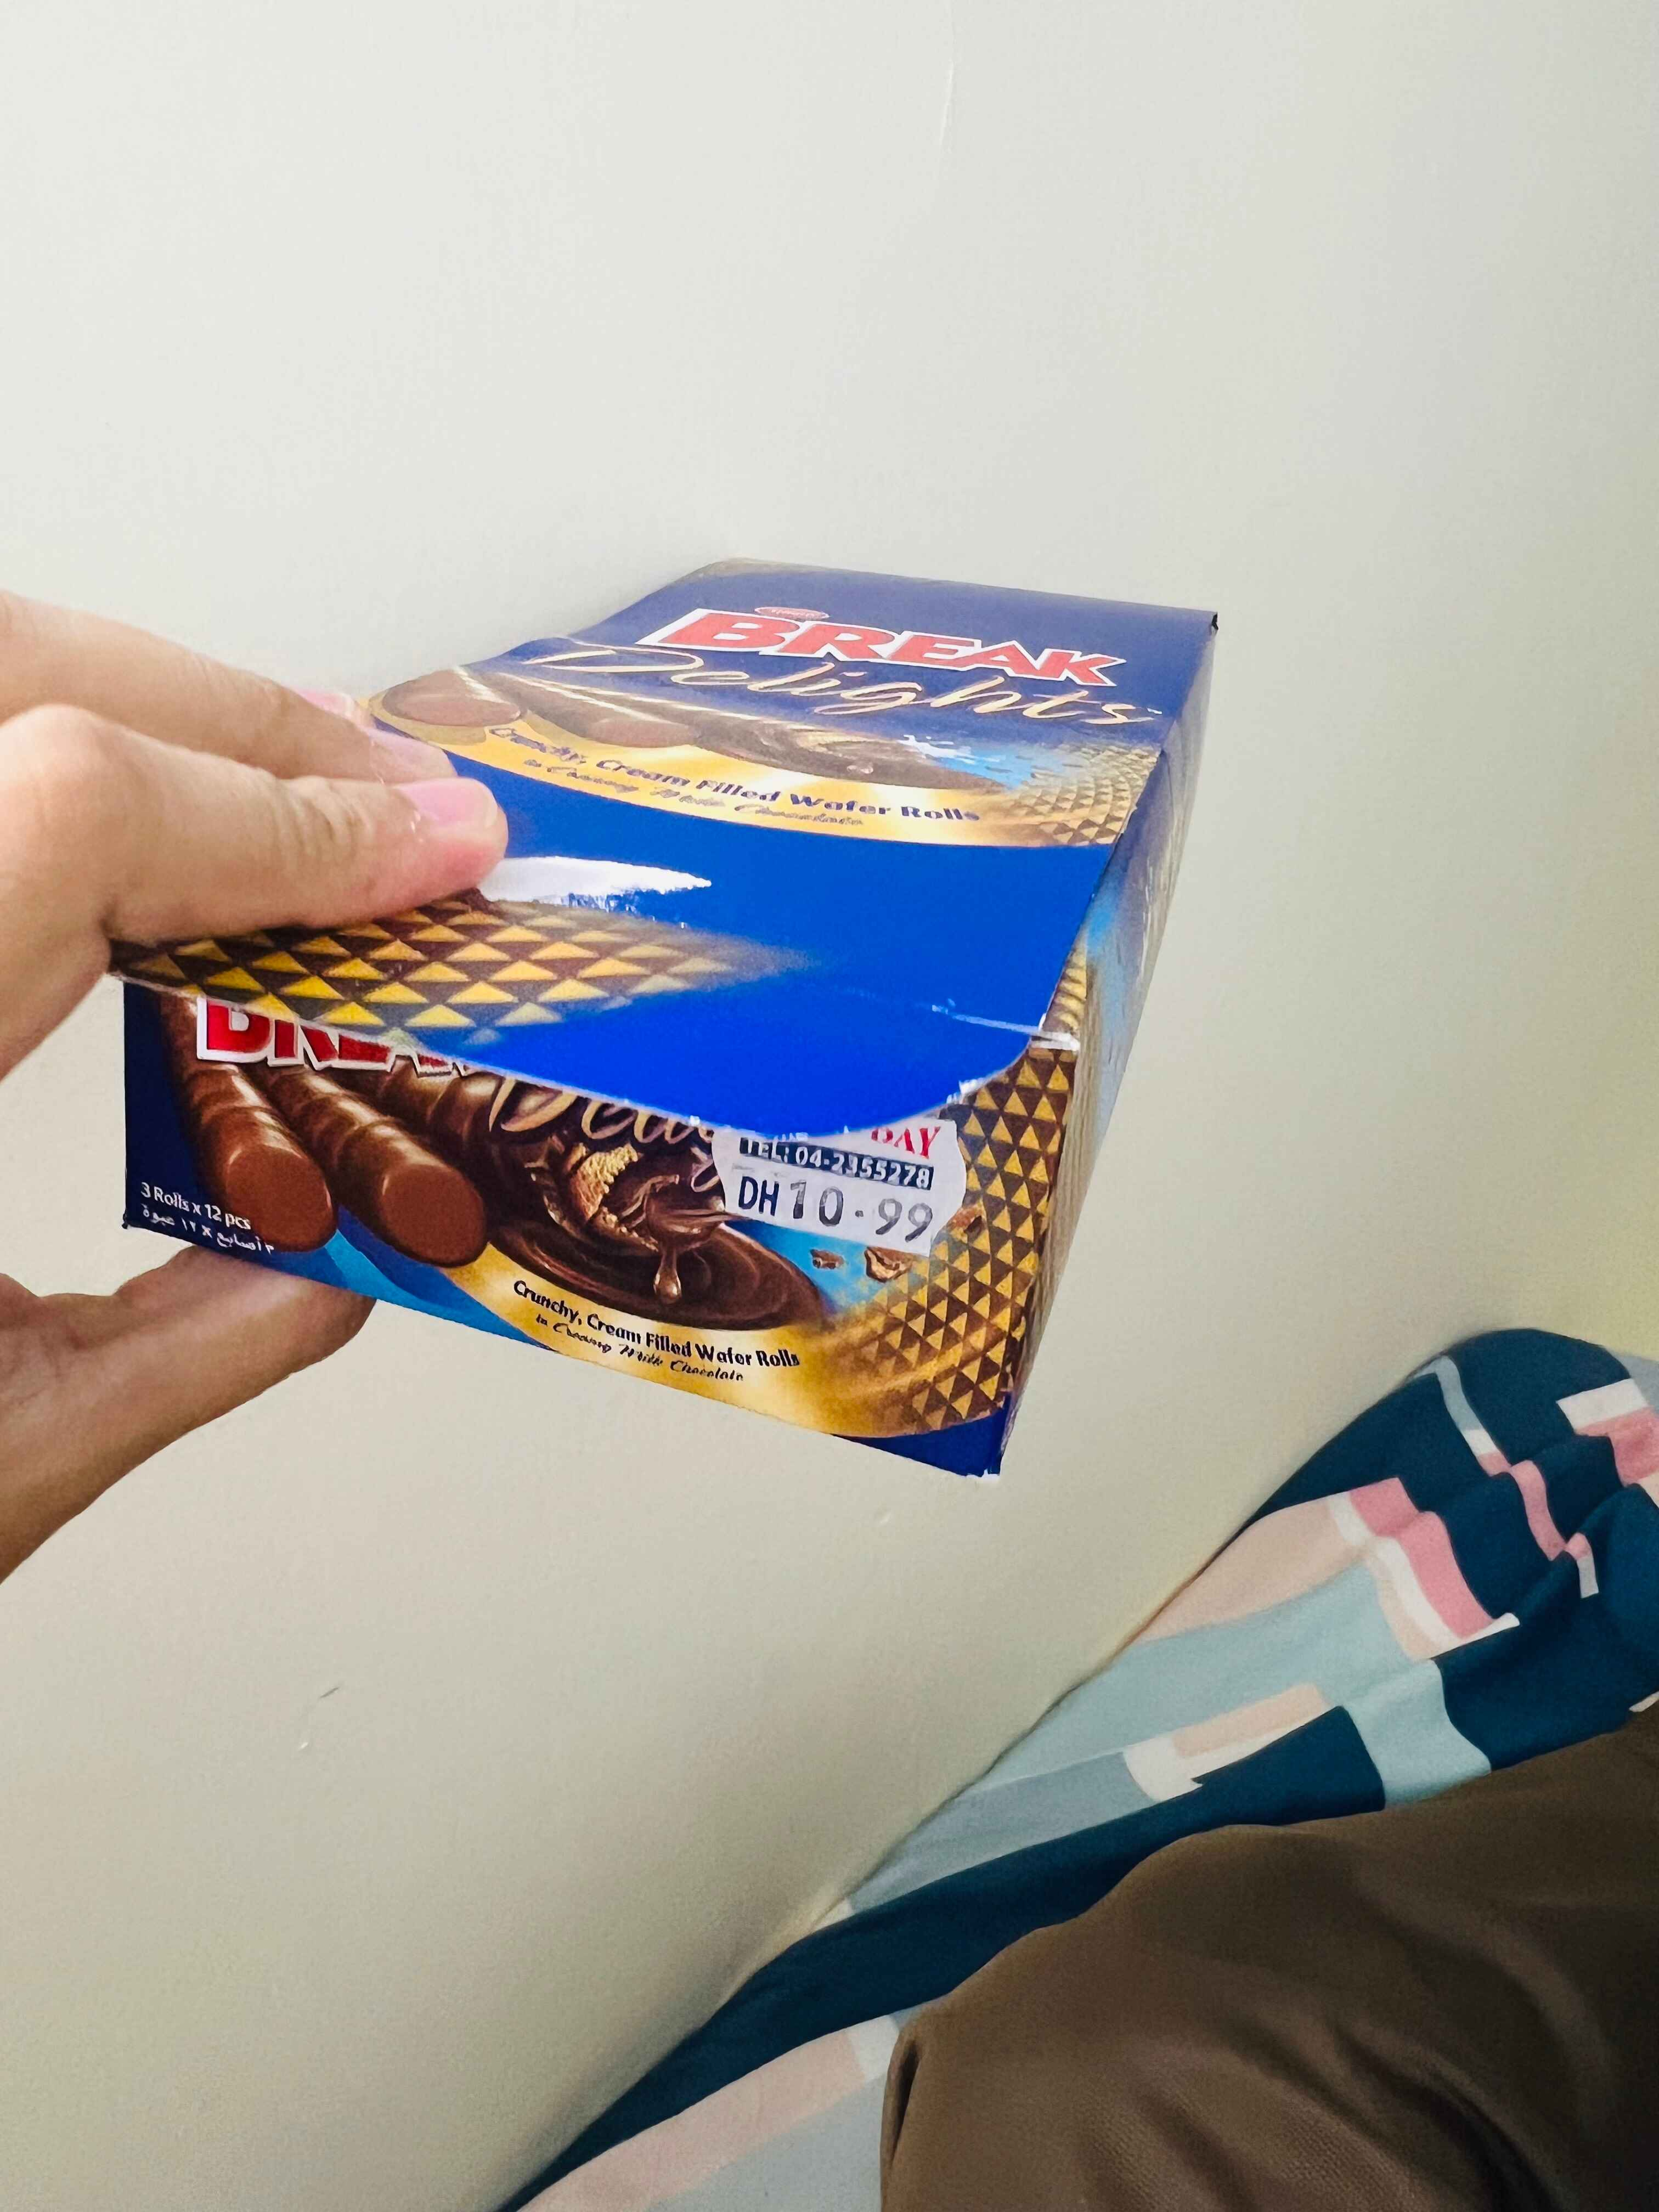PriceTagSmall: (704, 1103, 965, 1270)
